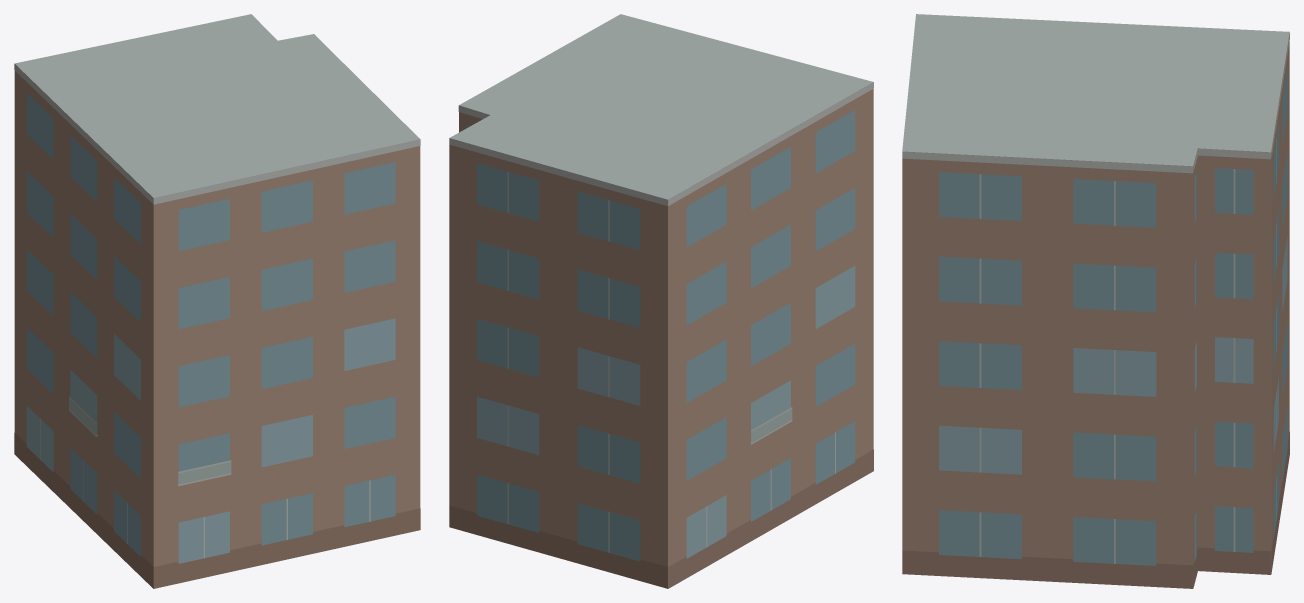
File: survey-upis-32753447.glb
The picture shows the model from 3 angles, left to right: view 1: azimuth 30°, elevation 25°; view 2: azimuth 150°, elevation 25°; view 3: azimuth 270°, elevation 25°; orthographic projection. The views are drawn at different scales.
Parts seen in each view (by area): view 1: survey-upis-32753447.tmp; view 2: survey-upis-32753447.tmp; view 3: survey-upis-32753447.tmp.
Part boxes in pixels (x1=…): survey-upis-32753447.tmp: x1=14, y1=14, x2=420, y2=588; survey-upis-32753447.tmp: x1=449, y1=14, x2=873, y2=588; survey-upis-32753447.tmp: x1=902, y1=14, x2=1289, y2=588.
Size of the model in its own units: 11.21 by 14.5 by 12.06.
